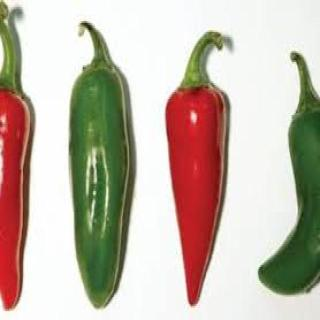Cabai Hijau: (67, 28, 139, 314), (259, 61, 320, 297)
Cabai Merah: (164, 26, 234, 308), (1, 88, 38, 312)
